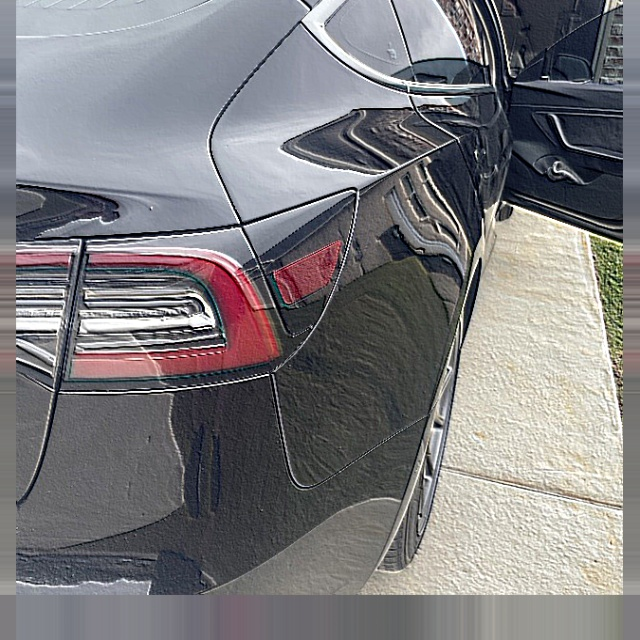reflector: (273, 238, 342, 306)
